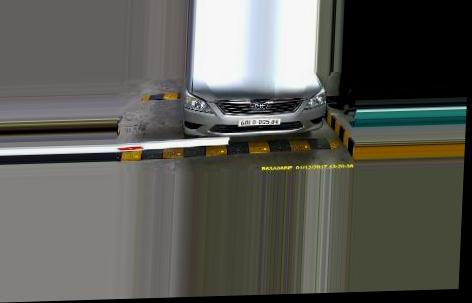License_Plate: (238, 115, 282, 130)
